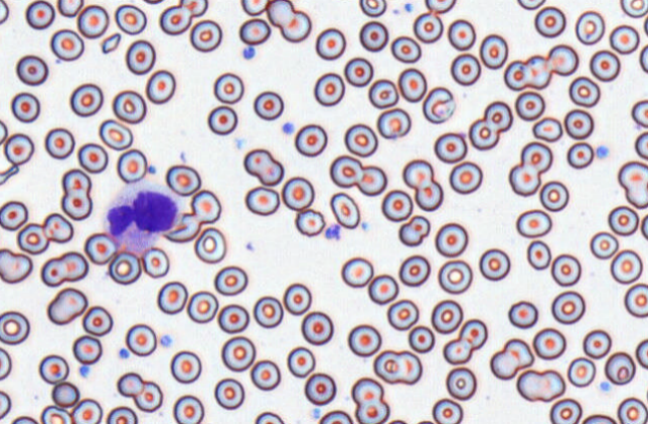GRAN: (105, 179, 186, 256)
PLT: (323, 222, 343, 243), (76, 364, 93, 380), (241, 44, 257, 60), (595, 144, 612, 159), (596, 379, 611, 394), (158, 334, 174, 348), (281, 121, 296, 135), (117, 347, 131, 361), (404, 3, 416, 14), (146, 163, 156, 174)
RBC: (489, 338, 534, 380), (40, 250, 88, 287), (373, 349, 422, 385), (516, 368, 565, 402), (46, 287, 87, 325), (243, 148, 284, 186), (617, 160, 648, 208), (437, 259, 472, 294), (221, 335, 255, 371), (193, 226, 226, 263), (422, 86, 455, 123), (107, 250, 141, 285), (434, 222, 468, 257), (448, 160, 482, 194), (344, 123, 378, 157), (551, 290, 585, 324), (112, 89, 146, 123), (69, 83, 103, 117), (0, 248, 33, 283), (430, 299, 463, 334), (300, 310, 333, 345), (281, 176, 314, 211), (165, 164, 201, 196), (329, 192, 360, 229), (329, 154, 362, 188), (347, 323, 381, 356), (50, 28, 84, 61), (76, 4, 109, 38), (98, 118, 133, 150), (376, 107, 411, 139), (610, 249, 642, 284), (84, 232, 117, 265), (303, 372, 336, 405), (189, 19, 222, 52), (294, 123, 327, 156), (189, 189, 221, 223), (156, 280, 188, 314), (433, 131, 467, 163), (532, 327, 566, 359), (313, 72, 345, 106), (478, 247, 510, 281), (116, 148, 147, 183), (515, 208, 551, 238), (244, 185, 280, 215), (508, 163, 540, 196), (279, 9, 311, 42), (16, 222, 49, 254), (381, 189, 413, 222), (186, 290, 218, 323), (445, 366, 476, 400), (604, 351, 635, 385), (0, 310, 30, 345), (397, 67, 427, 102), (145, 69, 175, 104), (125, 39, 155, 74), (575, 10, 605, 45), (479, 33, 508, 69), (520, 141, 552, 173), (546, 44, 578, 76), (398, 214, 430, 246), (386, 298, 418, 330), (398, 254, 430, 286), (534, 6, 566, 38), (568, 75, 600, 107), (159, 4, 192, 35), (3, 132, 34, 165), (340, 256, 373, 287), (125, 323, 156, 356), (170, 350, 201, 383), (550, 253, 581, 286), (450, 53, 481, 86), (315, 27, 346, 60), (15, 54, 48, 85), (213, 265, 247, 295), (402, 158, 434, 189), (468, 118, 499, 150), (356, 164, 387, 196), (81, 305, 113, 336), (367, 273, 398, 305), (213, 72, 244, 104), (44, 127, 75, 159), (412, 11, 443, 43), (607, 205, 639, 236), (114, 4, 146, 35), (589, 49, 620, 81), (214, 377, 244, 410), (253, 295, 283, 328), (42, 212, 73, 243), (77, 142, 108, 173), (133, 380, 163, 412), (217, 303, 249, 333), (250, 359, 280, 391), (10, 91, 40, 123), (282, 282, 311, 315), (61, 190, 92, 220), (514, 90, 545, 120), (539, 180, 569, 211), (38, 354, 69, 384), (564, 108, 594, 139), (483, 100, 512, 132), (458, 318, 487, 350), (140, 246, 169, 278), (286, 346, 315, 378), (172, 394, 204, 423), (447, 18, 476, 50), (72, 334, 102, 364), (207, 105, 237, 135), (609, 24, 639, 54), (368, 78, 398, 108), (253, 90, 283, 120), (414, 180, 443, 211), (567, 356, 596, 387), (344, 56, 373, 87), (359, 20, 388, 51), (351, 377, 383, 405), (238, 17, 270, 45), (549, 397, 582, 424), (25, 0, 55, 29), (294, 208, 325, 236), (617, 396, 648, 424), (507, 300, 538, 328), (390, 35, 421, 63), (70, 397, 102, 424), (582, 329, 611, 358), (0, 200, 28, 230), (355, 399, 389, 423), (624, 283, 648, 317), (589, 231, 618, 259), (442, 337, 472, 364), (431, 398, 463, 423), (566, 141, 594, 169), (265, 0, 294, 27), (407, 324, 434, 353), (532, 116, 562, 142), (503, 59, 528, 90), (526, 239, 551, 270), (51, 381, 79, 408), (116, 371, 144, 397), (40, 405, 72, 423), (106, 405, 137, 423), (317, 409, 353, 423), (179, 0, 208, 17), (631, 99, 648, 128), (620, 0, 648, 17), (358, 0, 386, 17), (56, 0, 83, 17), (634, 130, 648, 160), (240, 0, 268, 15), (424, 0, 456, 13), (635, 338, 648, 369), (254, 411, 285, 423), (0, 347, 11, 380), (581, 413, 617, 423), (0, 389, 11, 419), (516, 0, 546, 10), (639, 43, 648, 73), (0, 0, 9, 25), (640, 212, 648, 240), (10, 415, 38, 423), (0, 119, 8, 146), (385, 418, 408, 424), (643, 13, 648, 36), (414, 419, 435, 424), (141, 0, 165, 4), (645, 378, 648, 404)
Schistocyte: (164, 211, 201, 243), (99, 32, 123, 55), (0, 164, 19, 186)
